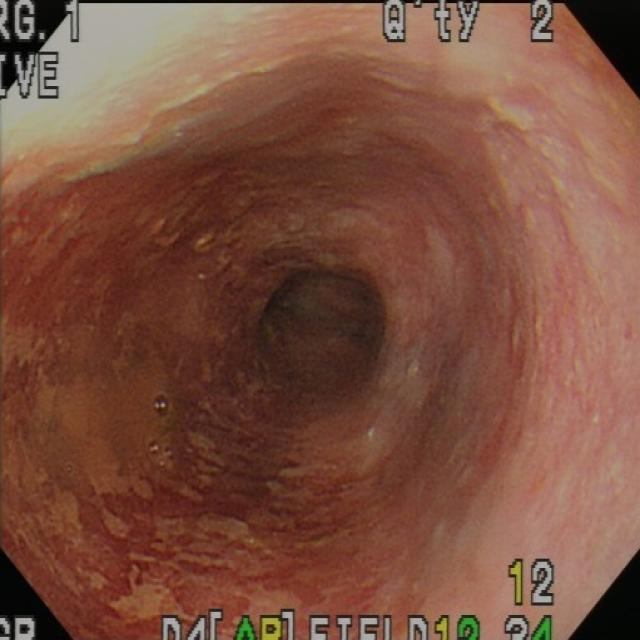E: (255, 262, 387, 397)
J: (439, 45, 640, 359), (2, 319, 183, 546), (184, 394, 387, 544), (5, 175, 332, 266), (50, 517, 301, 630), (381, 222, 465, 467)
S: (160, 608, 483, 640), (383, 3, 558, 45), (3, 3, 83, 45), (3, 50, 63, 101), (507, 558, 556, 608), (506, 614, 556, 640), (2, 614, 39, 640)
T: (149, 437, 176, 469), (149, 391, 175, 422), (63, 460, 77, 477)
